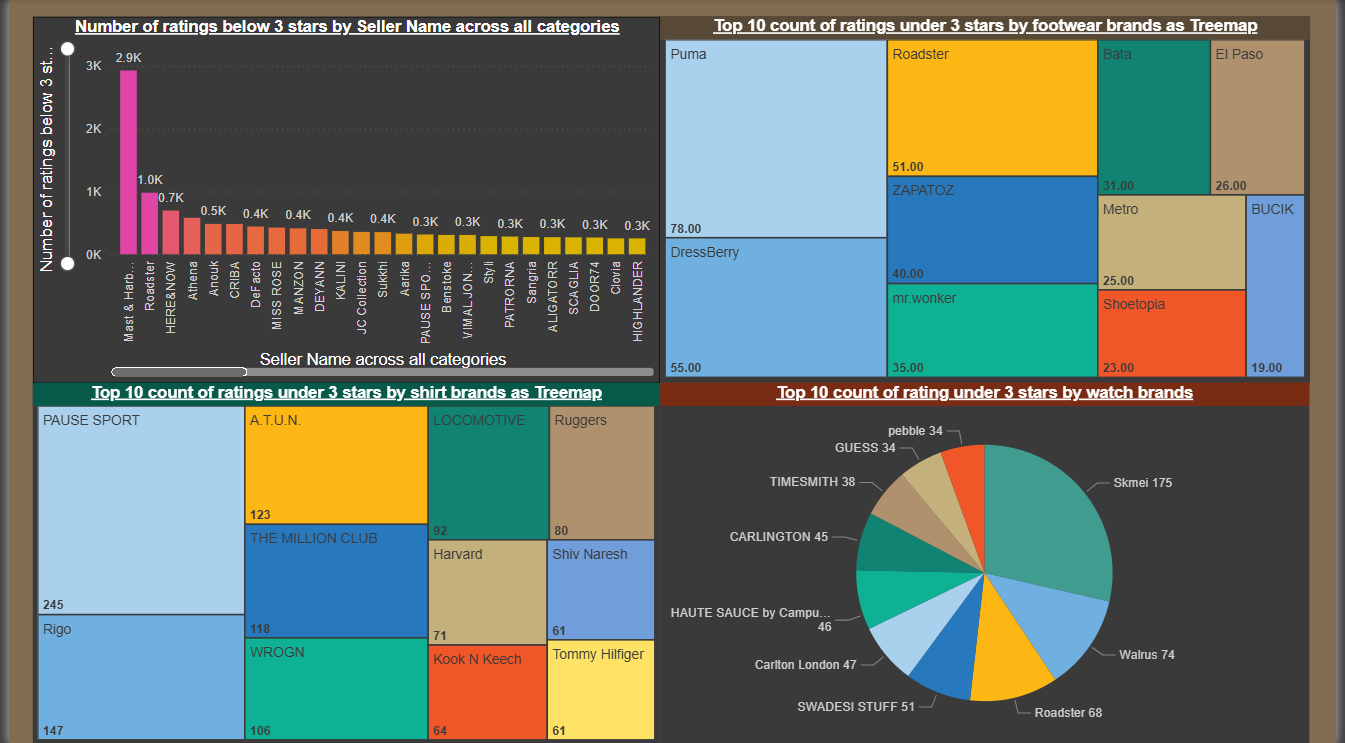

What the dashboard file says about the page in this screenshot:
{"tool":"powerbi","page":{"name":"Myntra Analysis","canvas":[1280,720],"ordinal":0},"visuals":[{"type":"clusteredColumnChart","fields":{"Category":["LRS.seller"],"Y":["Sum(LRS.LowRatings)"]},"box":[22.9,16.9,605.6,353.5],"z":0},{"type":"treemap","fields":{"Group":["lowFootwear.seller"],"Values":["Sum(lowFootwear.ratingTotal)"]},"box":[628.6,16.9,627.3,353.5],"z":1000},{"type":"treemap","fields":{"Group":["lowShirts.seller"],"Values":["Sum(lowShirts.ratingTotal)"]},"box":[22.9,370.4,605.6,349.9],"z":2000},{"type":"pieChart","fields":{"Category":["lowWatches.seller"],"Y":["Sum(lowWatches.ratingTotal)"]},"box":[628.6,370.4,626.1,349.9],"z":3000}]}

Visuals, with their boxes in screenshot pixels (x1, y1, x2, y2), scaled from the page's 1280x720 canvas onto the 1345x743 screenshot:
clusteredColumnChart - LRS.seller x Sum(LRS.LowRatings): detection(24, 17, 660, 382)
treemap - lowFootwear.seller x Sum(lowFootwear.ratingTotal): detection(661, 17, 1320, 382)
treemap - lowShirts.seller x Sum(lowShirts.ratingTotal): detection(24, 382, 660, 742)
pieChart - lowWatches.seller x Sum(lowWatches.ratingTotal): detection(661, 382, 1318, 742)
